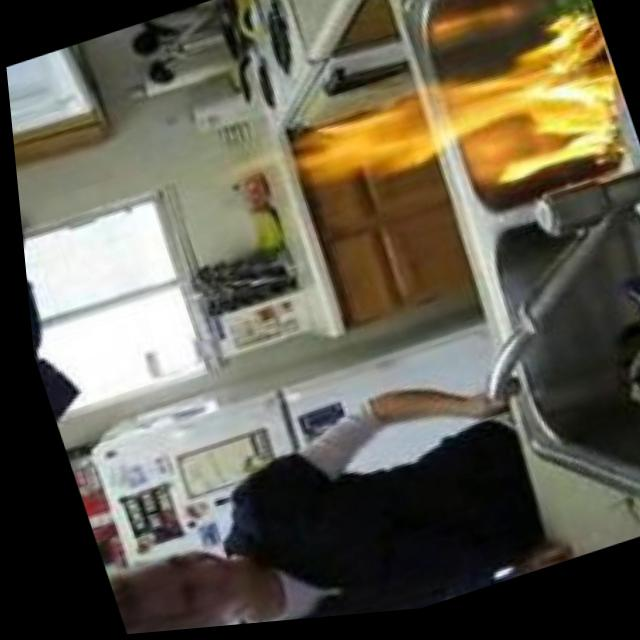Fire: (262, 13, 635, 255)
